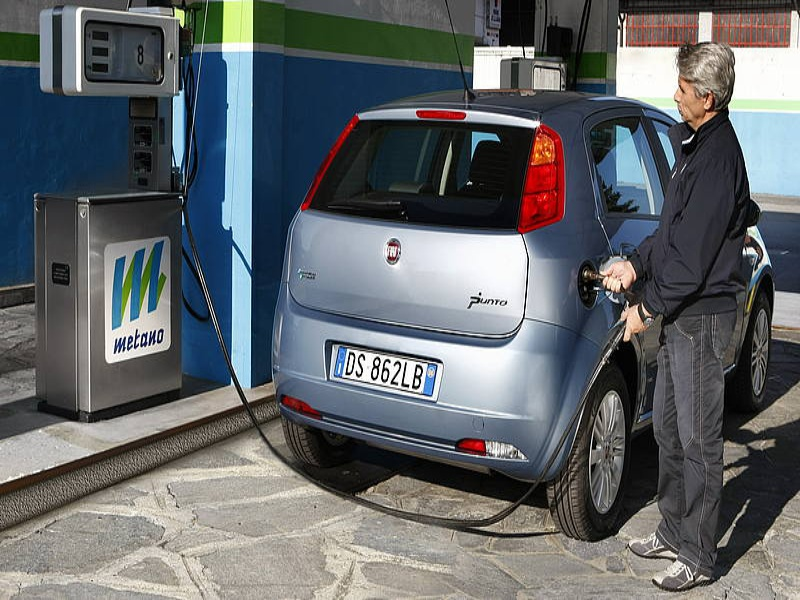licence_plate: (320, 331, 447, 408)
